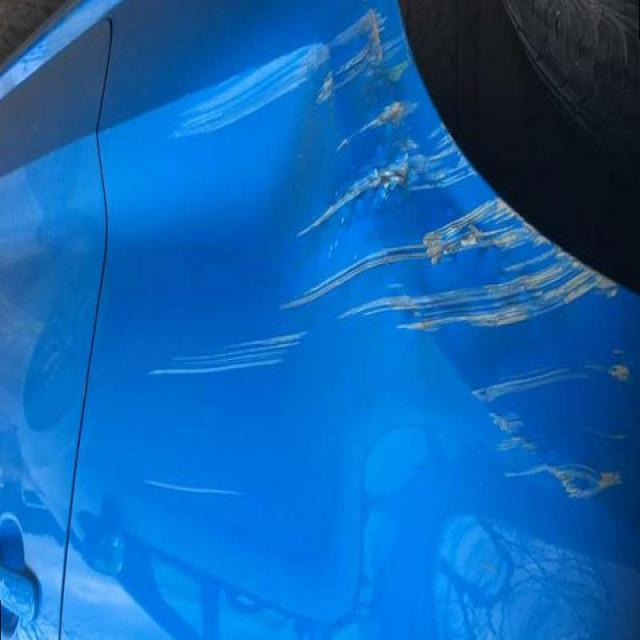scratch: (188, 13, 640, 352), (473, 365, 640, 522), (140, 313, 318, 383), (142, 455, 254, 505)
